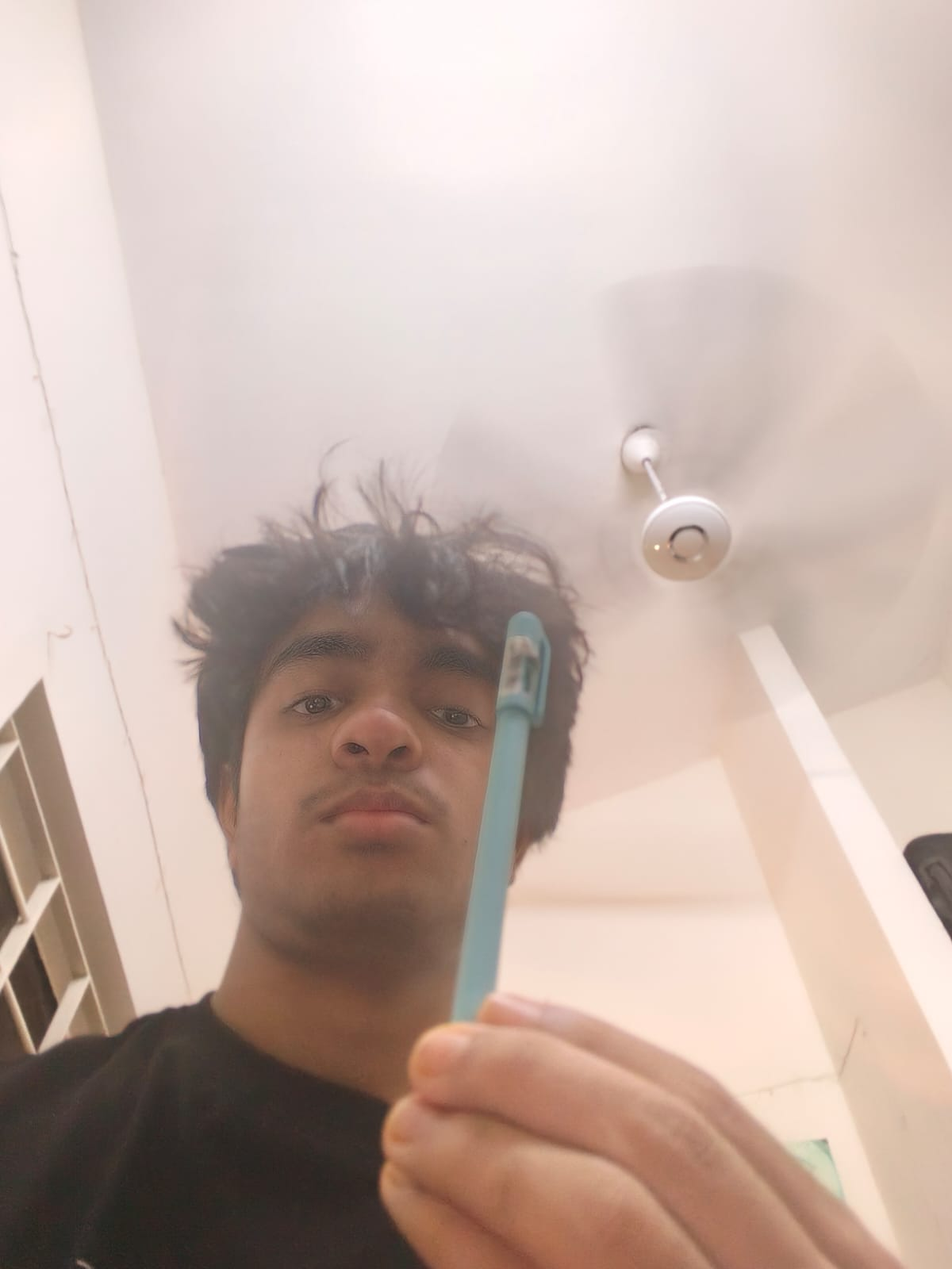pen: (441, 590, 559, 1021)
